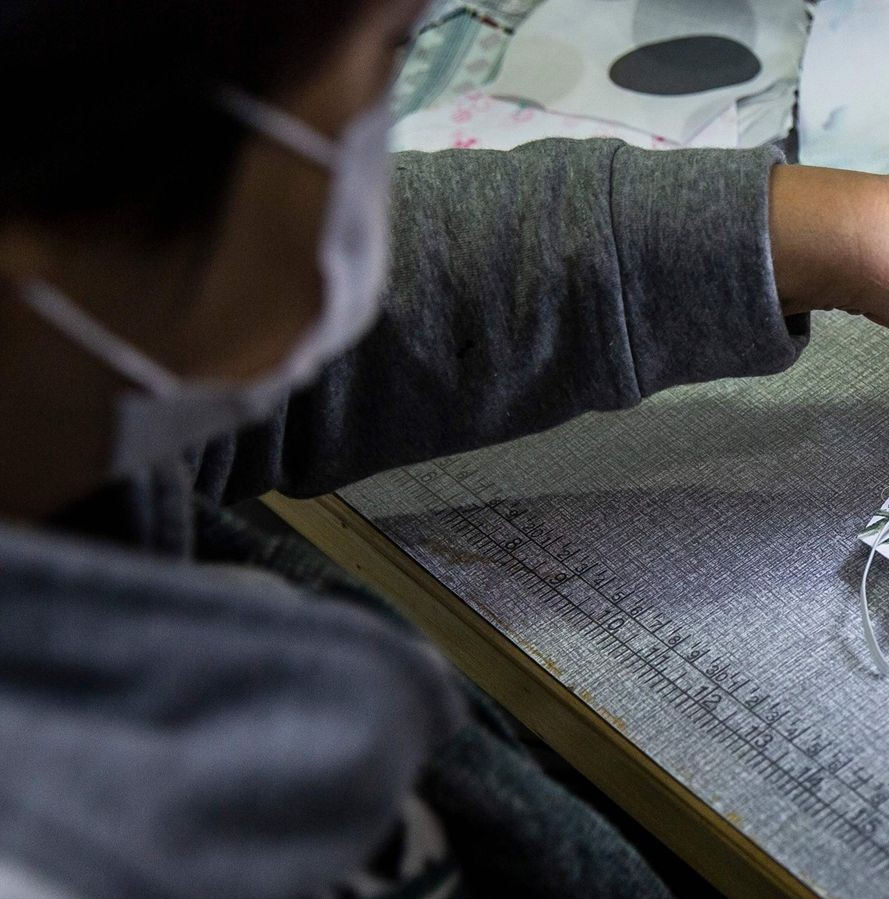with_mask: (52, 2, 447, 428)
